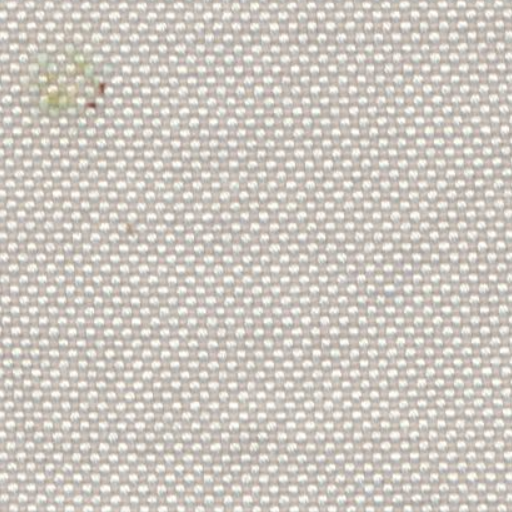WuZi: (16, 30, 116, 131), (108, 206, 153, 246)
